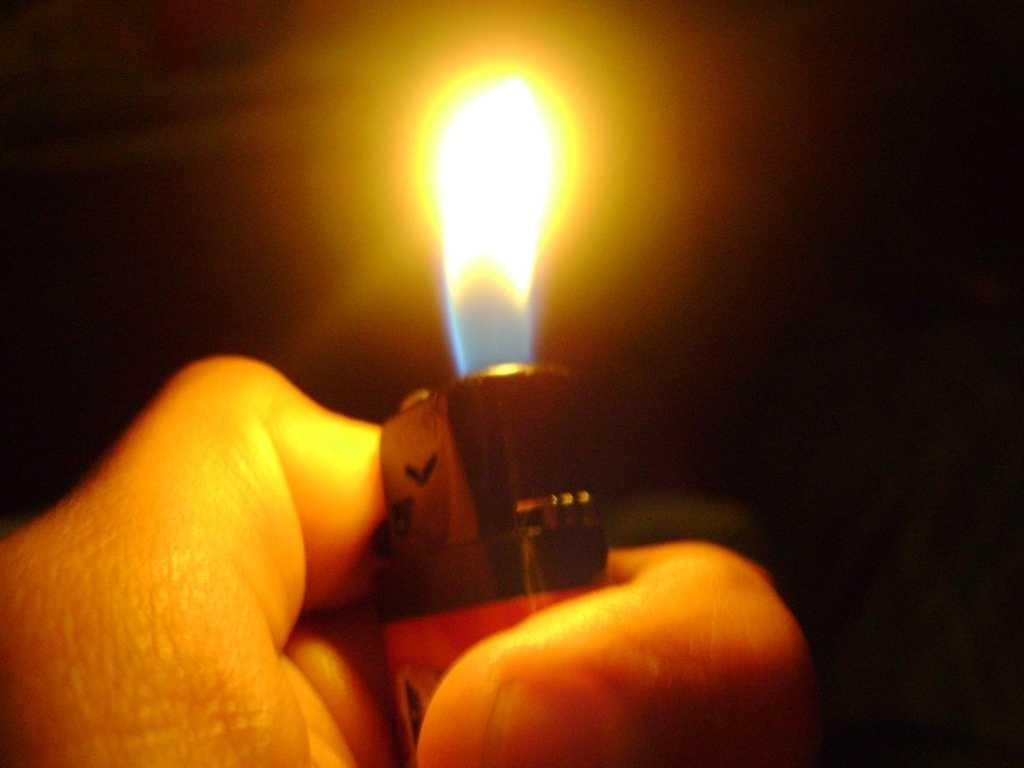fire: (413, 44, 591, 381)
